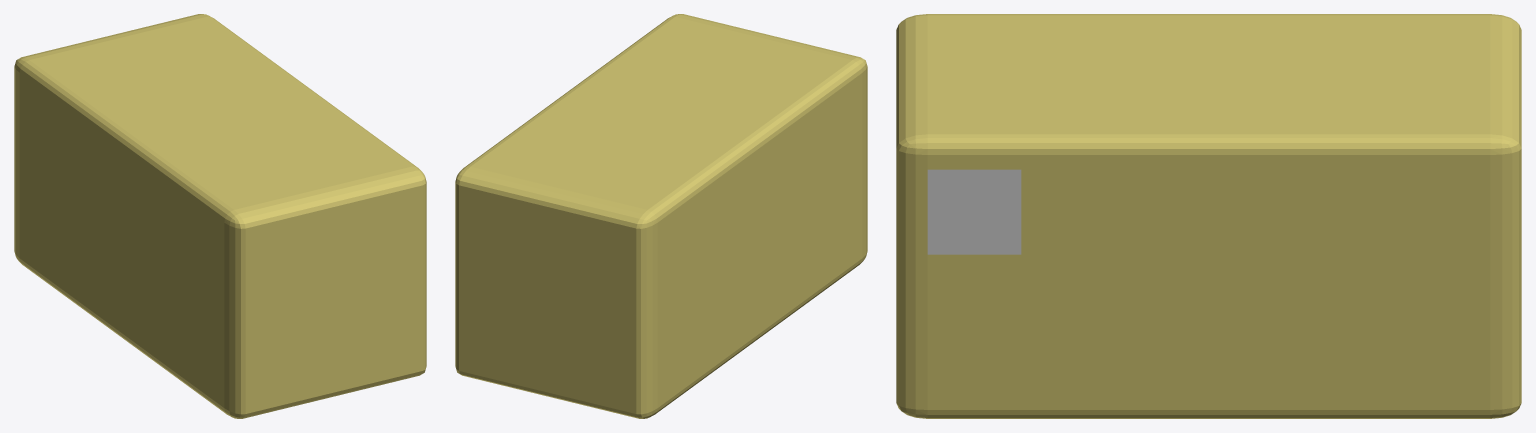
Rendered from Trans_Highlight.dae.
3 views of the same model, side by side, from view 1: azimuth 30°, elevation 25°; view 2: azimuth 150°, elevation 25°; view 3: azimuth 270°, elevation 25° (orthographic). The views are drawn at different scales.
Visible parts, largest first — view 1: Cube; view 2: Cube; view 3: Cube, Plane.
Part boxes in pixels (x1,y1,x2,y2): Cube: [14, 14, 426, 418]; Cube: [455, 14, 867, 418]; Cube: [896, 14, 1521, 418]; Plane: [927, 169, 1021, 254].
Bounding box in the file's own units: 1 × 2 × 1.
